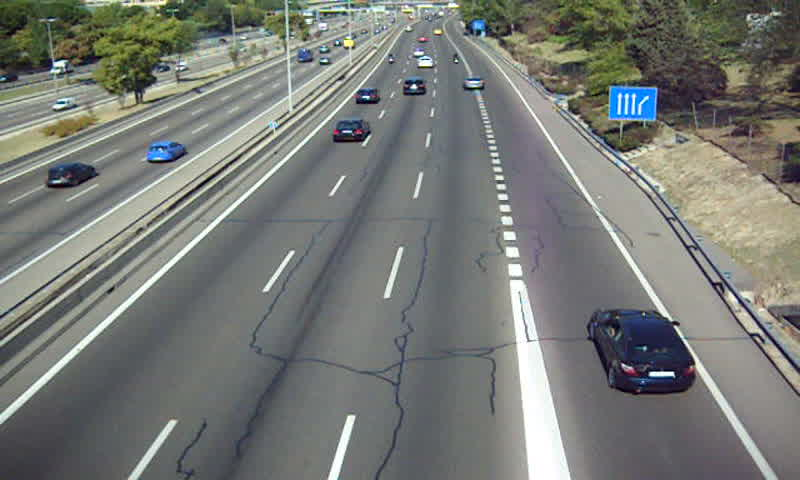car: (589, 310, 696, 391), (333, 118, 370, 142), (401, 77, 426, 96), (355, 87, 379, 105), (462, 75, 485, 91), (416, 55, 434, 69)
motorcycle: (388, 50, 396, 68)
